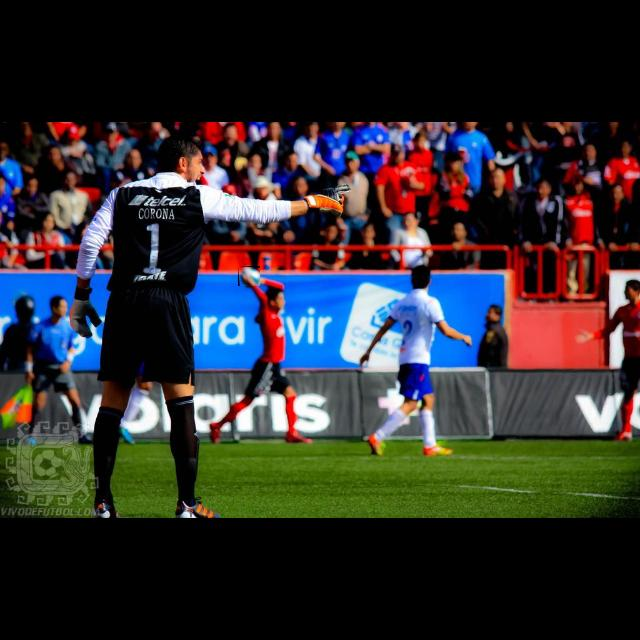Football: (238, 266, 260, 286)
